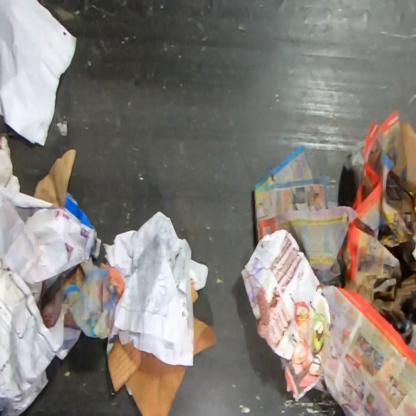cardboard: (105, 338, 189, 415), (388, 120, 415, 216), (370, 272, 415, 324), (192, 316, 218, 356), (190, 282, 200, 304)
soft_plastic: (240, 228, 332, 367)
